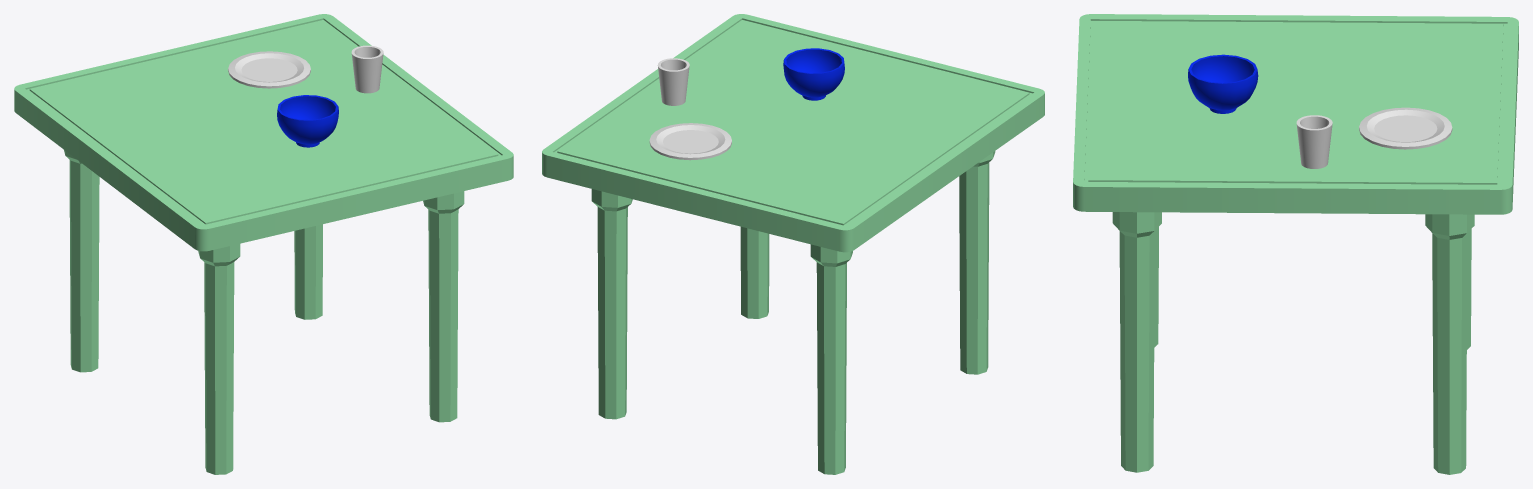
Rendered from table 2.fbx.
3 renders of one model, left to right at view 1: azimuth 30°, elevation 25°; view 2: azimuth 150°, elevation 25°; view 3: azimuth 270°, elevation 25°, orthographic. The views are drawn at different scales.
Visible parts, largest first — view 1: Cube.015, Sphere.002, Cylinder.009, Cylinder.008; view 2: Cube.015, Sphere.002, Cylinder.009, Cylinder.008; view 3: Cube.015, Sphere.002, Cylinder.009, Cylinder.008.
Part boxes in pixels (x1,y1,x2,y2): Cube.015: (14, 14, 513, 474); Sphere.002: (277, 95, 338, 147); Cylinder.009: (228, 51, 310, 88); Cylinder.008: (351, 45, 383, 93); Cube.015: (542, 14, 1044, 474); Sphere.002: (783, 48, 844, 100); Cylinder.009: (649, 123, 731, 160); Cylinder.008: (657, 58, 689, 105); Cube.015: (1073, 14, 1518, 474); Sphere.002: (1188, 54, 1258, 113); Cylinder.009: (1359, 107, 1452, 149); Cylinder.008: (1296, 115, 1332, 168).
Bounding box in the file's own units: 267 × 244 × 286.
